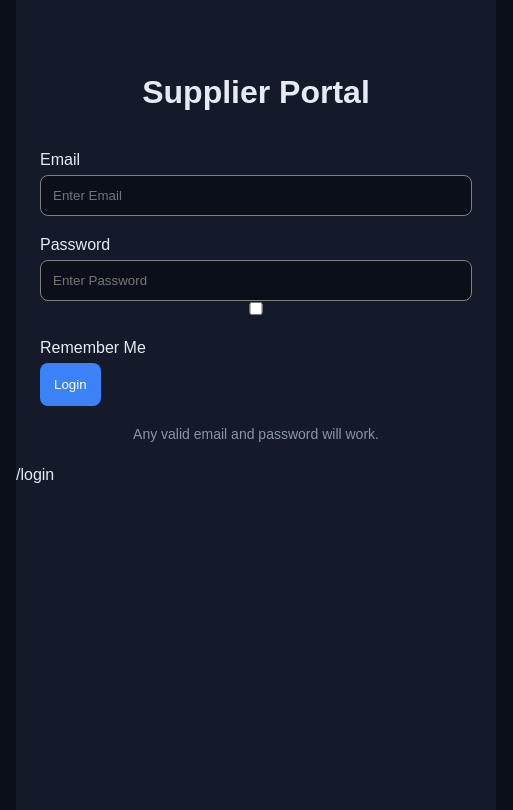
Test: Login › shows an error when login fails
Step 1. Type "supplier@company.com" into the field with placeholder "Enter Email" → (256, 196), box [40,175,472,216]
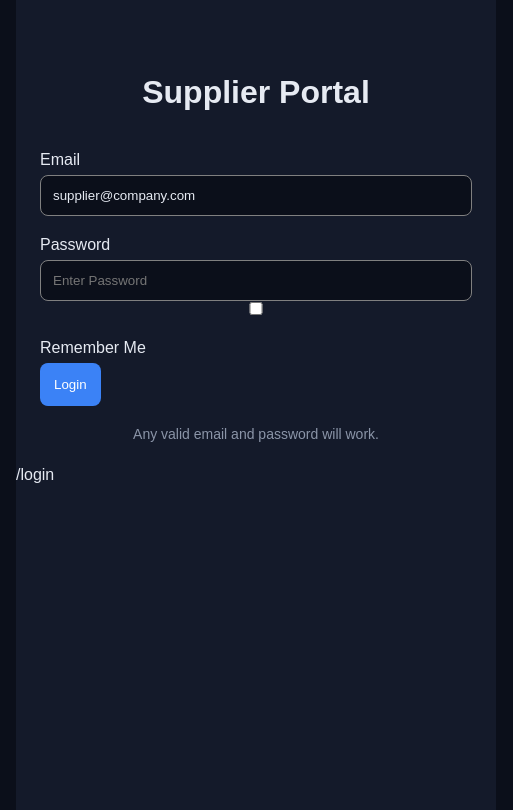
Step 2. Type "supplier@123" into the password field with placeholder "Enter Password" → (256, 280), box [40,260,472,301]
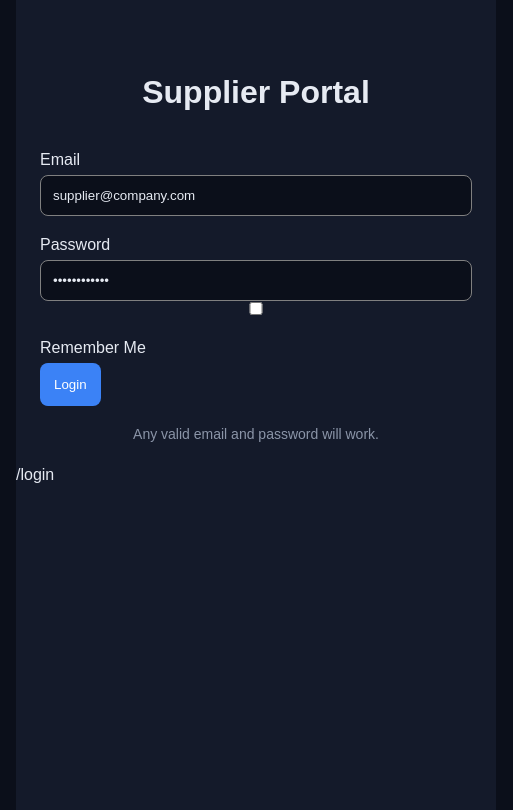
Step 3. Click the button "Login" → (70, 384), box [40,363,101,406]
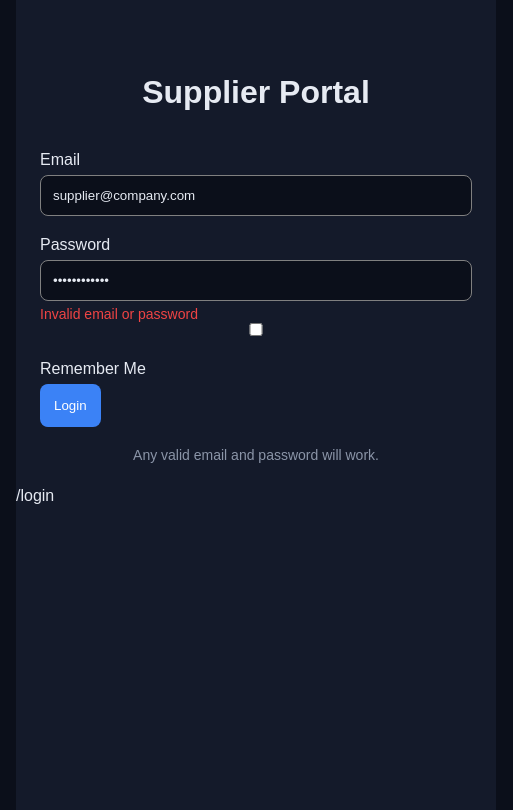
Expected: the text "Invalid email or password" is shown, [40,306,198,322]
